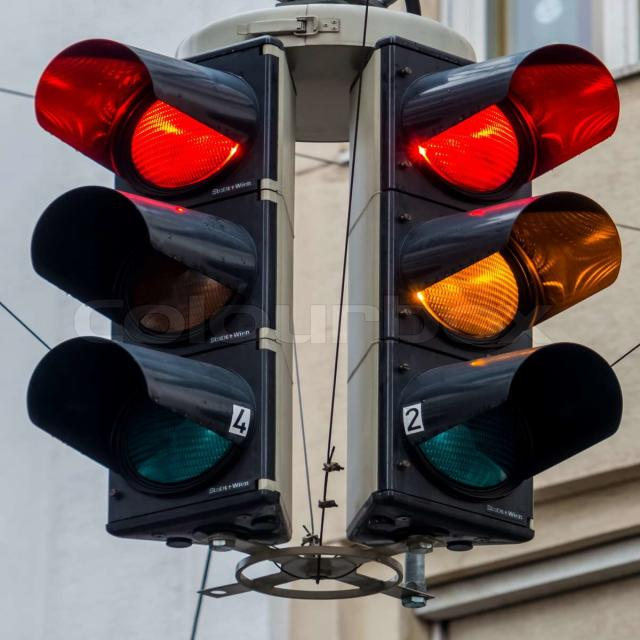red: (406, 66, 569, 211), (82, 66, 245, 186)
